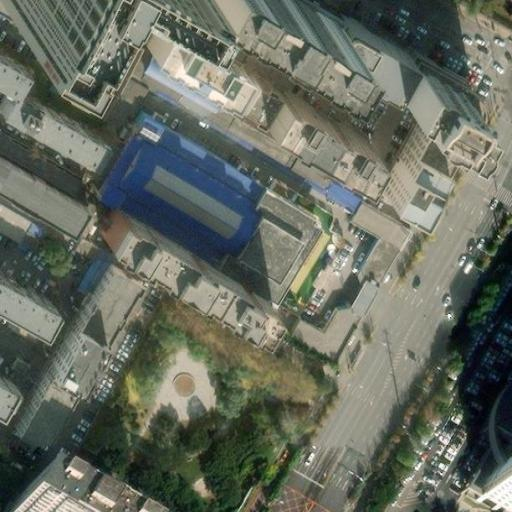building: (96, 193, 268, 316), (77, 121, 239, 237), (1, 456, 171, 511), (254, 85, 365, 167), (37, 283, 120, 392), (101, 46, 210, 119), (384, 35, 478, 117), (138, 16, 238, 93), (0, 0, 114, 65), (224, 183, 304, 266), (385, 102, 456, 186), (0, 157, 78, 232), (343, 189, 408, 273), (282, 291, 360, 352), (4, 374, 66, 449), (234, 71, 270, 114), (345, 265, 377, 304)
